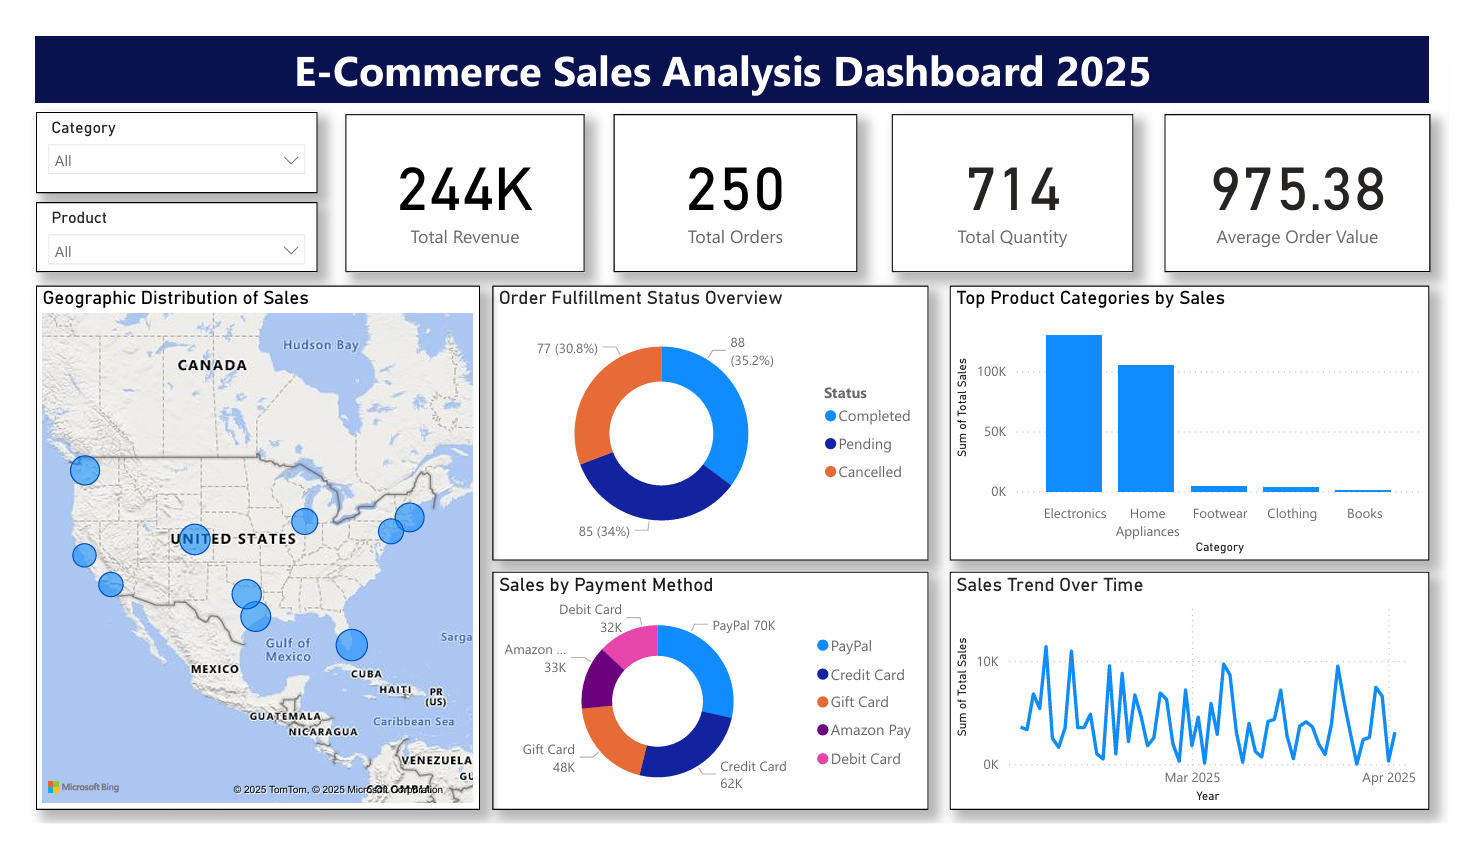

This screenshot's page, from the dashboard's own definition file:
{"tool":"powerbi","page":{"name":"Page 1","canvas":[1280,720],"ordinal":0},"visuals":[{"type":"card","fields":{"Values":["amazon_sales_data 2025.Total Revenue"]},"box":[289,83,215,142],"z":0},{"type":"card","fields":{"Values":["amazon_sales_data 2025.Total Orders"]},"box":[530,83,219,142],"z":1000},{"type":"card","fields":{"Values":["amazon_sales_data 2025.Total Quantity"]},"box":[780,83,217,142],"z":2000},{"type":"card","fields":{"Values":["amazon_sales_data 2025.Average Order Value"]},"box":[1025,83,239,142],"z":3000},{"type":"columnChart","title":"Top Product Categories by Sales","fields":{"Category":["amazon_sales_data 2025.Category"],"Y":["Sum(amazon_sales_data 2025.Total Sales)"]},"box":[832,237,431,247],"z":4000},{"type":"donutChart","title":"Order Fulfillment Status Overview","fields":{"Category":["amazon_sales_data 2025.Status"],"Y":["CountNonNull(amazon_sales_data 2025.Order ID)"]},"box":[420.7,237.2,392.5,247],"z":5000},{"type":"lineChart","title":"Sales Trend Over Time","fields":{"Category":["amazon_sales_data 2025.Date.Variation.Date Hierarchy.Year","amazon_sales_data 2025.Date.Variation.Date Hierarchy.Quarter","amazon_sales_data 2025.Date.Variation.Date Hierarchy.Month","amazon_sales_data 2025.Date.Variation.Date Hierarchy.Day"],"Y":["Sum(amazon_sales_data 2025.Total Sales)"]},"box":[832,494,431,214],"z":6000},{"type":"donutChart","title":"Sales by Payment Method","fields":{"Category":["amazon_sales_data 2025.Payment Method"],"Y":["Sum(amazon_sales_data 2025.Total Sales)"]},"box":[420.7,494,392.5,214],"z":7000},{"type":"textbox","box":[11,13,1252,60],"z":8000},{"type":"slicer","fields":{"Values":["amazon_sales_data 2025.Category"]},"box":[11,81,253,73],"z":9000},{"type":"slicer","fields":{"Values":["amazon_sales_data 2025.Product"]},"box":[11,162,253,63],"z":10000},{"type":"map","title":"Geographic Distribution of Sales","fields":{"Category":["amazon_sales_data 2025.Customer Location"],"Size":["Sum(amazon_sales_data 2025.Total Sales)"]},"box":[11,237.2,398.6,470.8],"z":10001}]}

Visuals, with their boxes in screenshot pixels (x1, y1, x2, y2), scaled from the page's 1280x720 canvas onto the 1472x843 screenshot:
card - amazon_sales_data 2025.Total Revenue: bbox=(332, 97, 580, 263)
card - amazon_sales_data 2025.Total Orders: bbox=(610, 97, 861, 263)
card - amazon_sales_data 2025.Total Quantity: bbox=(897, 97, 1147, 263)
card - amazon_sales_data 2025.Average Order Value: bbox=(1179, 97, 1454, 263)
"Top Product Categories by Sales" columnChart: bbox=(957, 277, 1452, 567)
"Order Fulfillment Status Overview" donutChart: bbox=(484, 278, 935, 567)
"Sales Trend Over Time" lineChart: bbox=(957, 578, 1452, 829)
"Sales by Payment Method" donutChart: bbox=(484, 578, 935, 829)
textbox: bbox=(13, 15, 1452, 85)
slicer - amazon_sales_data 2025.Category: bbox=(13, 95, 304, 180)
slicer - amazon_sales_data 2025.Product: bbox=(13, 190, 304, 263)
"Geographic Distribution of Sales" map: bbox=(13, 278, 471, 829)
